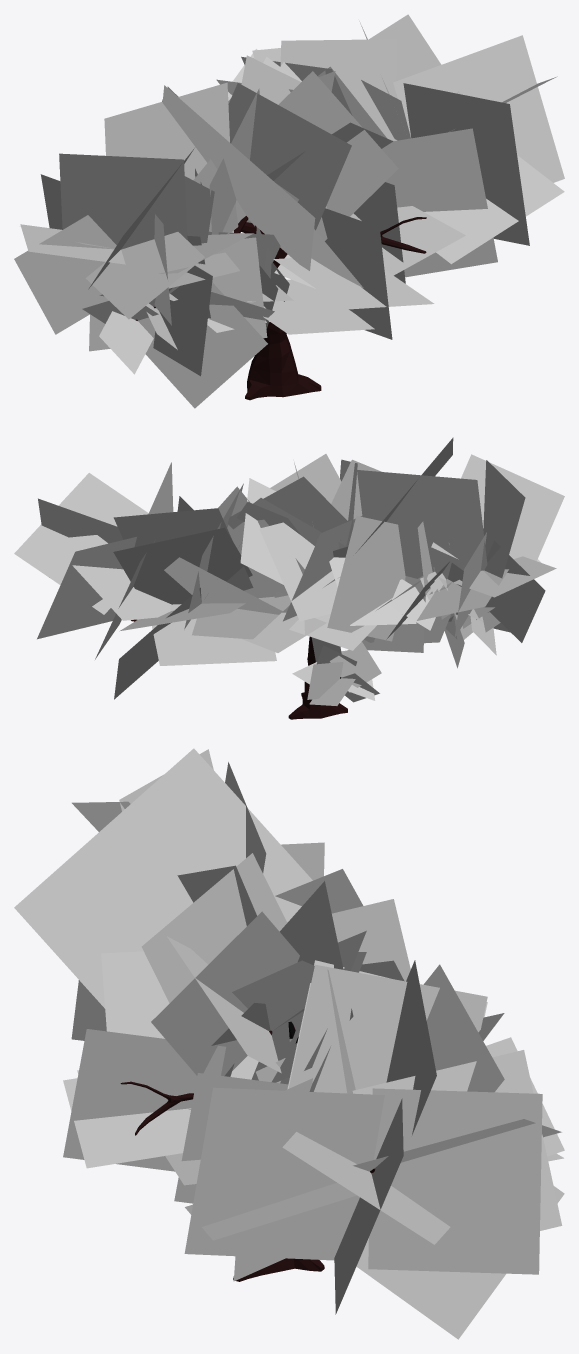
Rendered from PROP_neko_tree.FBX.
3 views of the same model, one above another, from view 1: azimuth 30°, elevation 25°; view 2: azimuth 150°, elevation 25°; view 3: azimuth 270°, elevation 25° (orthographic). The views are drawn at different scales.
Parts seen in each view (by area): view 1: tree_neko; view 2: tree_neko; view 3: tree_neko.
Part boxes in pixels (bbox=[...]): tree_neko: bbox=[14, 14, 564, 408]; tree_neko: bbox=[14, 437, 564, 719]; tree_neko: bbox=[14, 748, 564, 1339].
Bounding box in the file's own units: 13.26 × 7.63 × 8.84.
